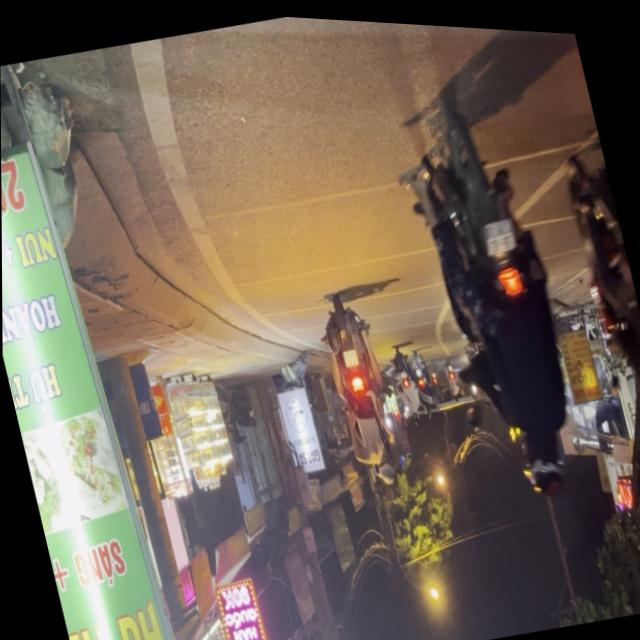helmet: (514, 416, 574, 499), (376, 452, 398, 482)
licenseplate: (385, 65, 603, 516), (546, 100, 640, 489), (306, 273, 416, 494)
nohelmet: (482, 212, 518, 252), (342, 344, 359, 364)
